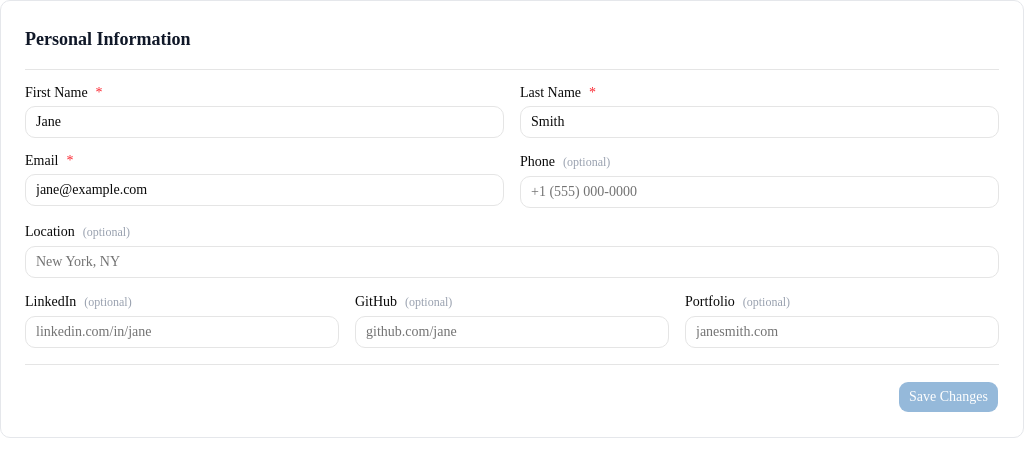
Test: PersonalInfoSection › dirty detection — Save button state › disables again when the field is reverted to its original value
Type "John" into the field labelled "First Name *" at (264, 122), box [25,106,504,138]
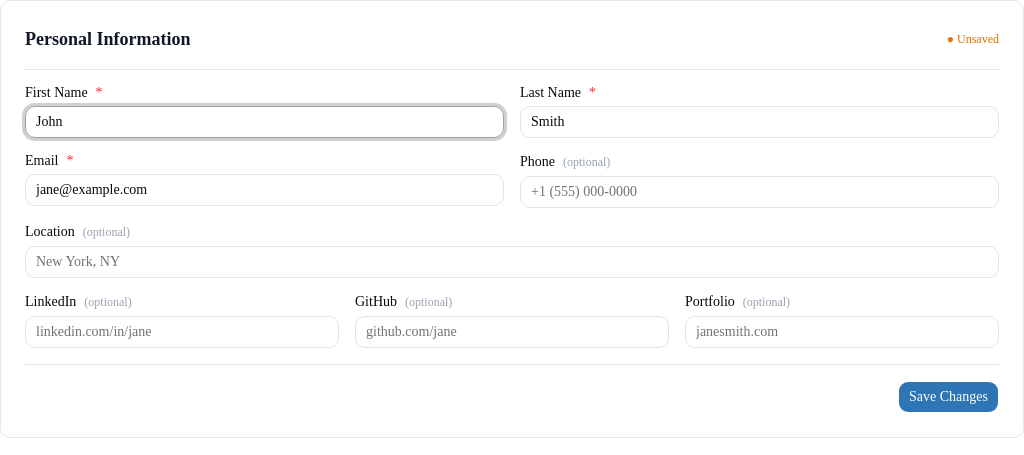
Result: the button "Save Changes" is enabled at [898,381,999,413]
Replace the text in the field labelled "First Name *" with "Jane" at (264, 122), box [25,106,504,138]
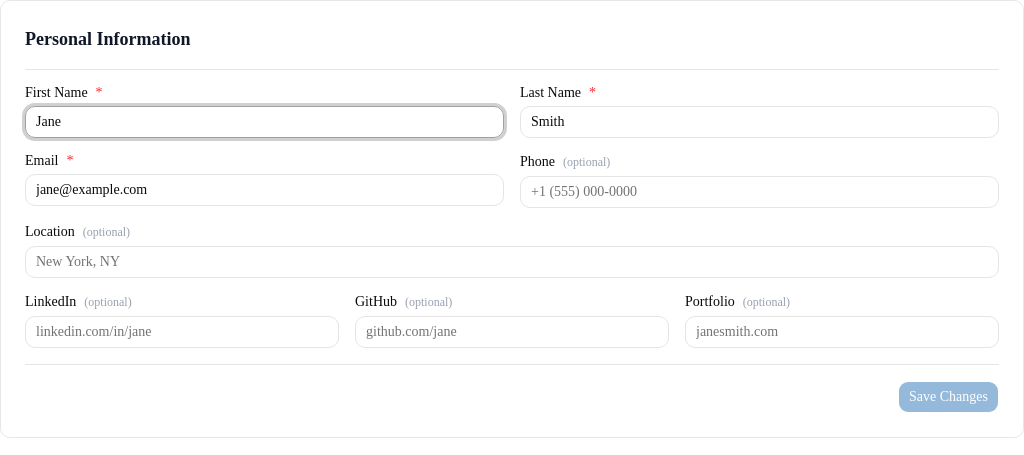
Result: the button "Save Changes" is disabled at [898,381,999,413]
